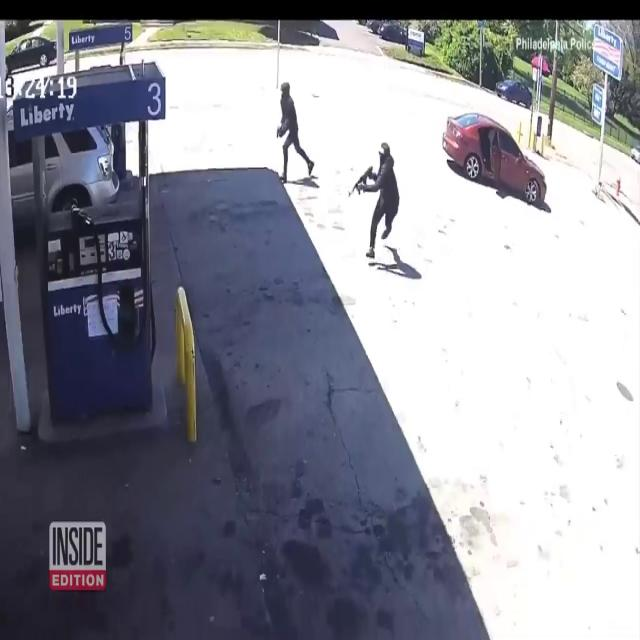penembakan: (350, 138, 408, 266), (274, 81, 316, 190)
